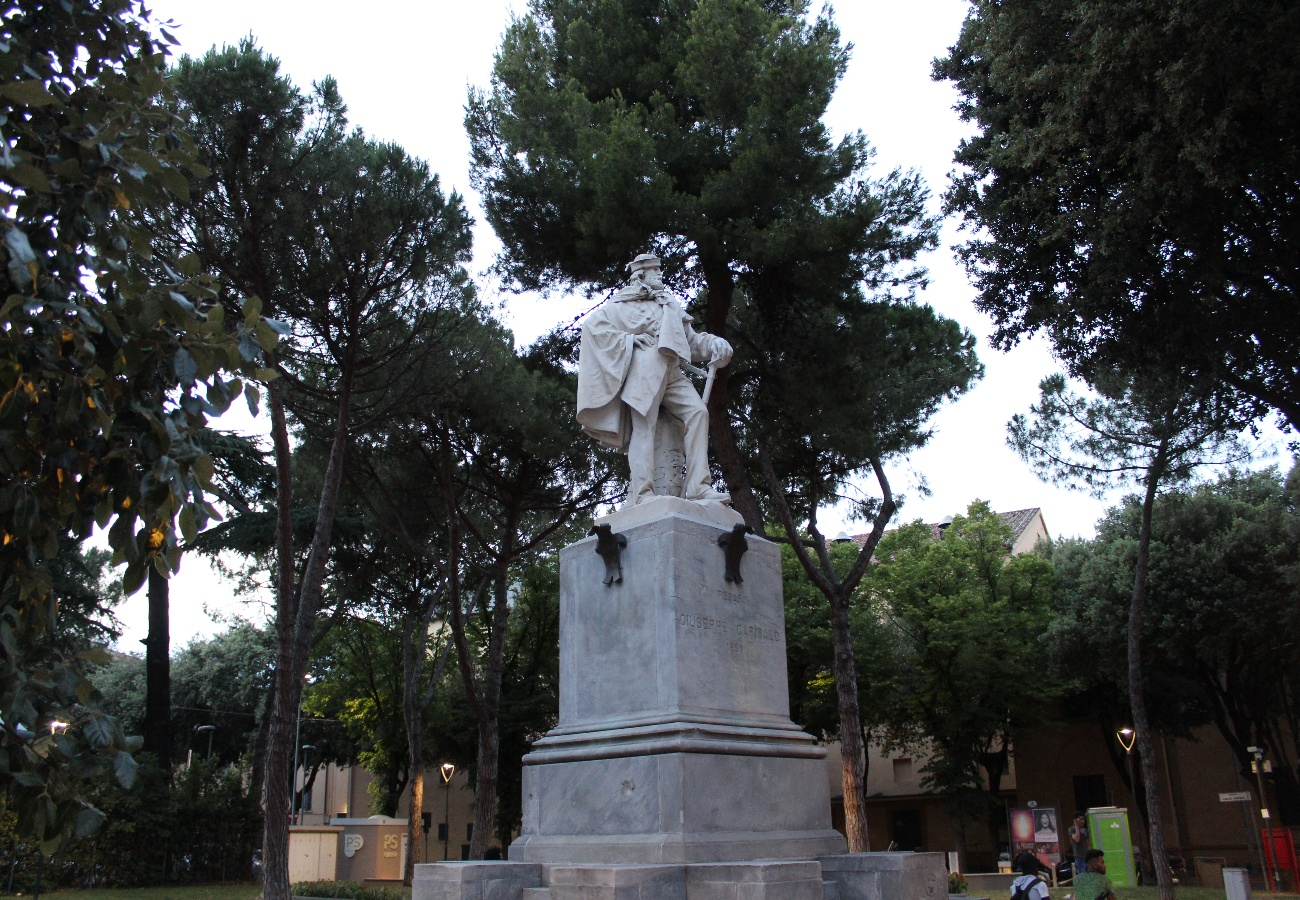Giuseppe Garibaldi: (577, 255, 736, 526)
